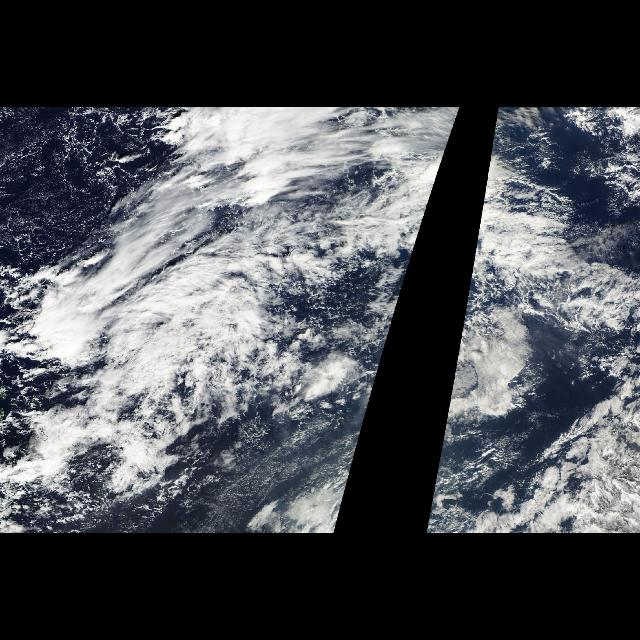Gravel: (0, 119, 172, 271)
